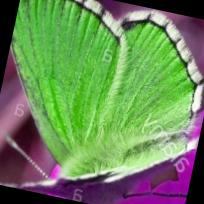butterfly: (0, 0, 202, 204)
